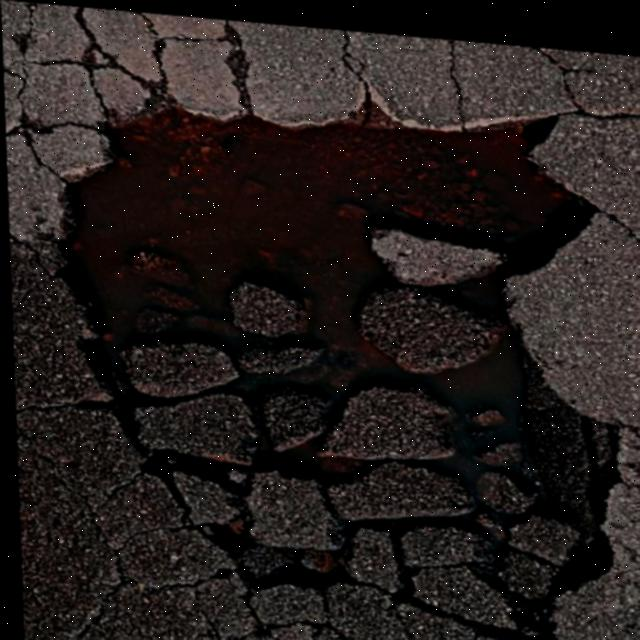Pothole: (39, 57, 609, 458)
